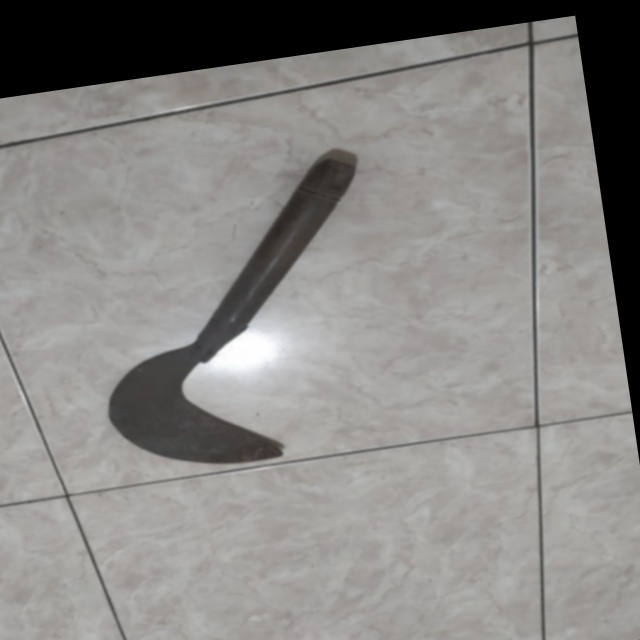Sharp-Object: (54, 139, 403, 495)
